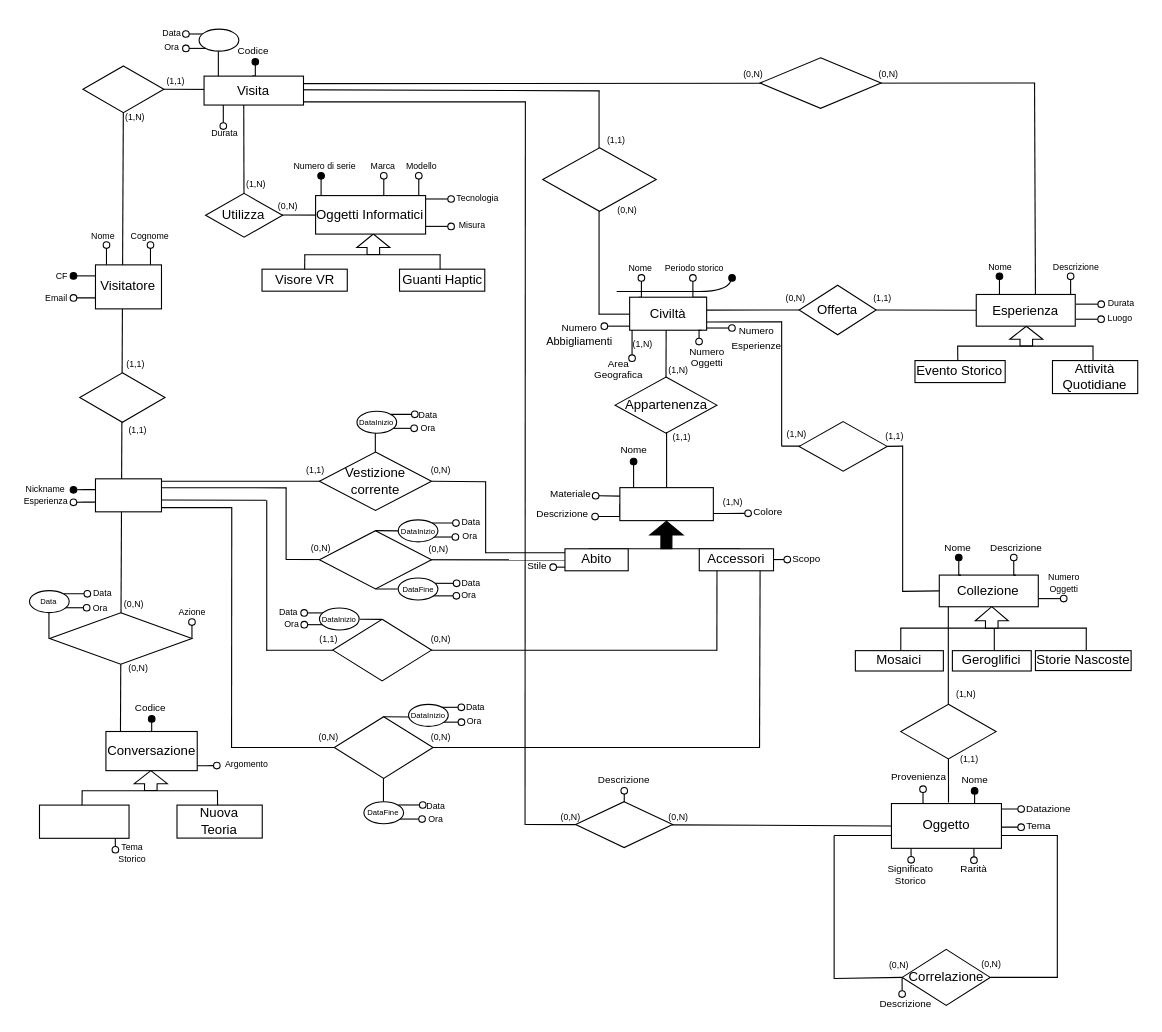
This 1162x1032 diagram has some shape labels left out. The box of each missing label's shape, as (x1, y1, x2, y2) in pixels:
Abbigliamento: (619, 487, 713, 521)
Avatar: (94, 478, 161, 512)
Contenimento: (900, 703, 996, 759)
Creazione: (79, 372, 165, 422)
DataVisita: (198, 28, 239, 51)
Discussione Virtuale: (38, 804, 129, 838)
Esplorazione: (542, 147, 656, 211)
Interazione: (575, 801, 673, 848)
InterazioneAvatar: (49, 612, 192, 664)
Partecipazione: (759, 57, 881, 108)
Pertinenza: (798, 421, 887, 471)
Sostiene: (82, 65, 164, 113)
Utilizzo corrente: (332, 618, 432, 681)
Utilizzo passato: (333, 716, 433, 778)
Vestizione passata: (318, 530, 432, 589)
